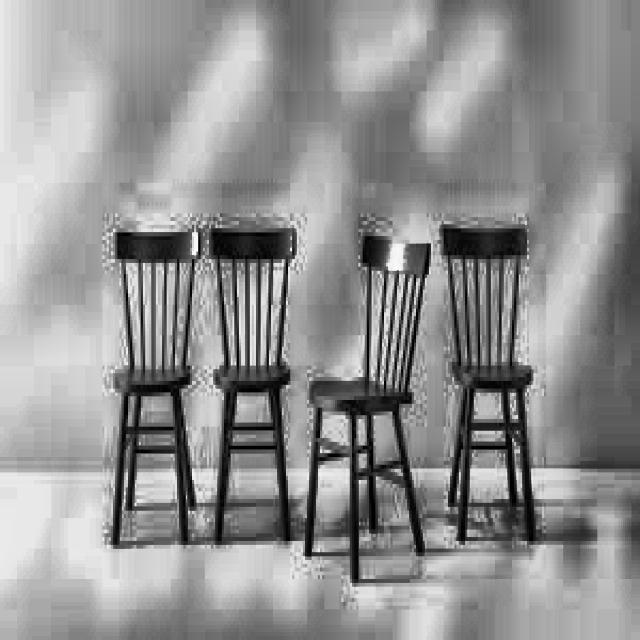cadeira: (302, 234, 434, 589), (442, 214, 540, 551), (106, 219, 200, 552), (208, 218, 296, 544)
